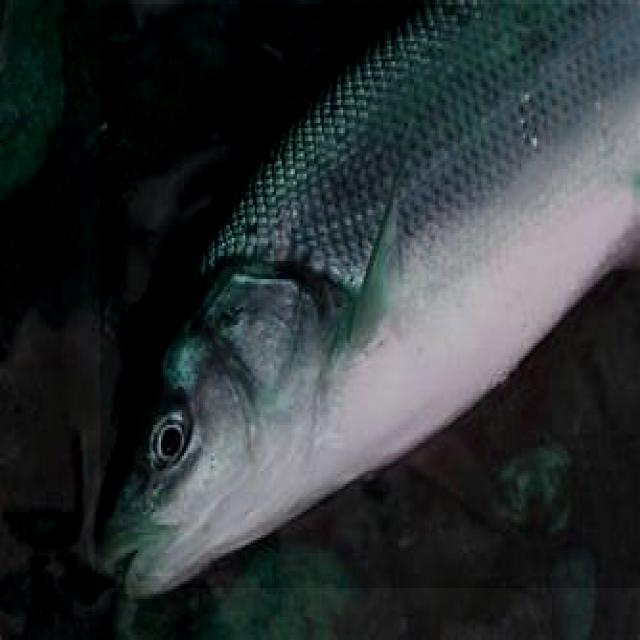Healthy Fish: (100, 4, 640, 588)
